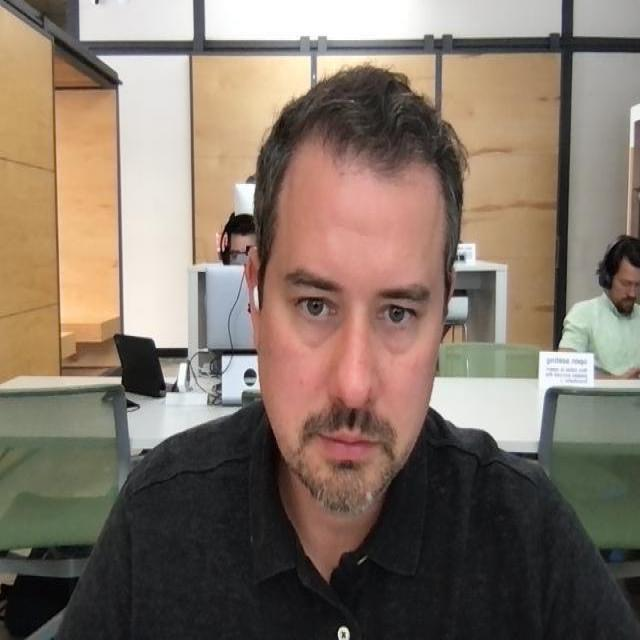face: (240, 68, 461, 520), (603, 239, 640, 316), (221, 215, 257, 265)
